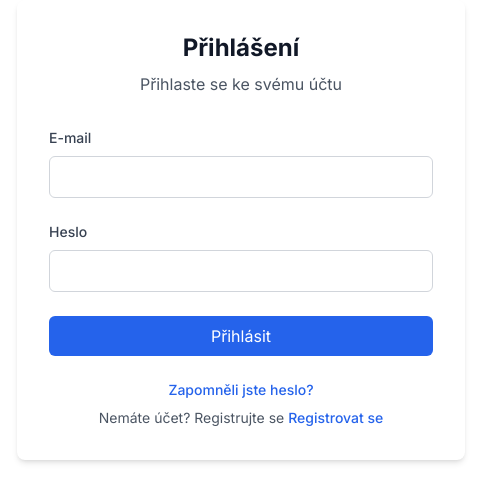
Test: LoginForm › shows loading state during form submission
This screenshot has width=483, height=481.
Fill form
Type "test@example.com" into the field labelled "E-mail" at [241, 177], box [49, 156, 433, 198]
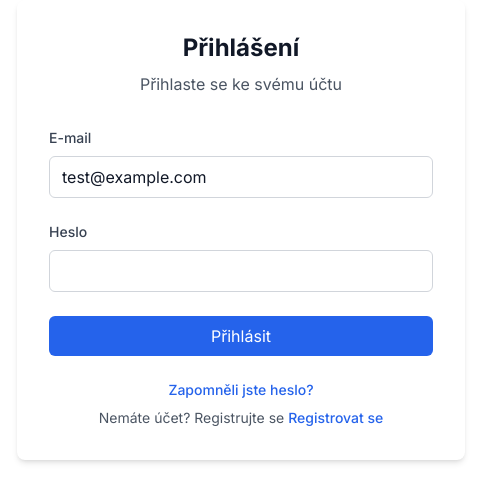
Type "password123" into the password field labelled "Heslo" at [241, 271], box [49, 250, 433, 292]
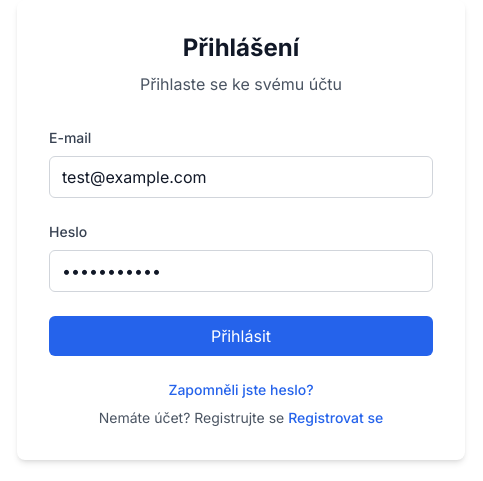
Submit form
Click the button "Přihlásit" at [241, 336], box [49, 316, 433, 356]
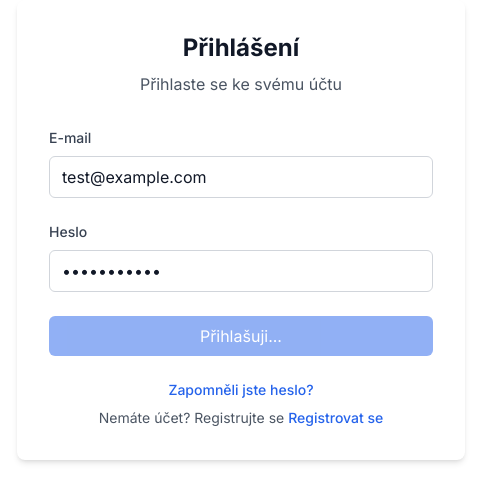
Check: the button "Přihlašuji..." is disabled, box [49, 316, 433, 356]
